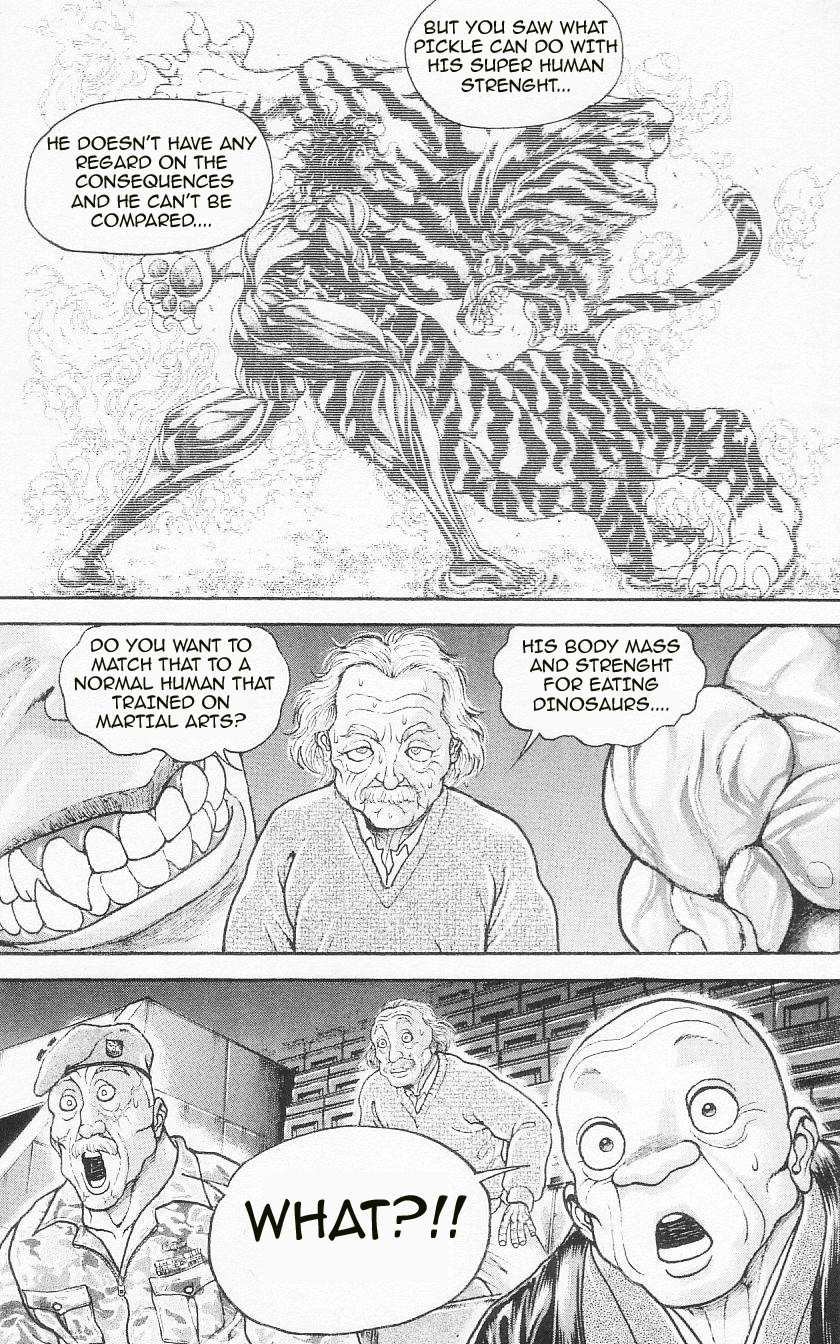Baloon: (208, 1129, 486, 1335), (27, 98, 278, 257), (61, 629, 290, 765), (402, 1, 623, 127), (490, 625, 710, 751)
Vignetta: (1, 1, 838, 604), (1, 978, 839, 1343), (1, 627, 840, 958)
